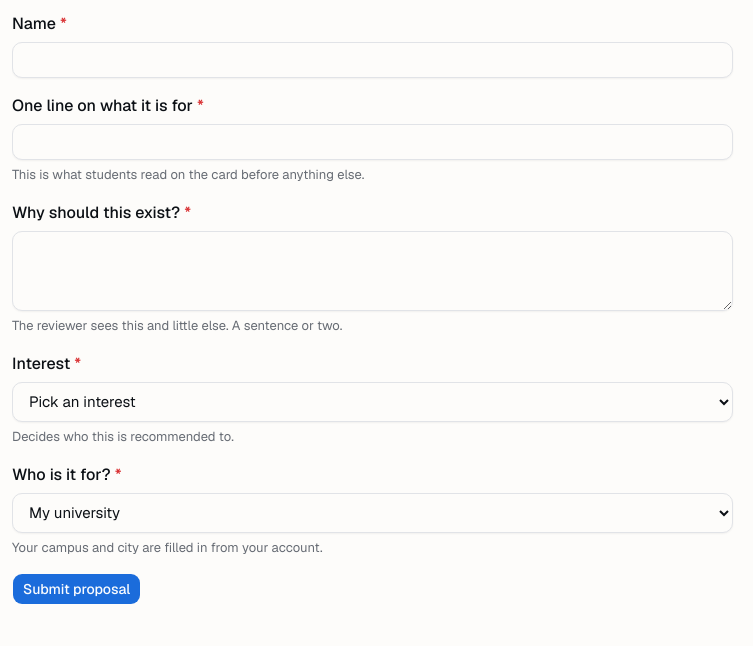
ProposeCommunityForm › does not submit an empty form
This screenshot has width=753, height=646.
Click the button "Submit proposal" at (77, 589), box [12,573,141,605]
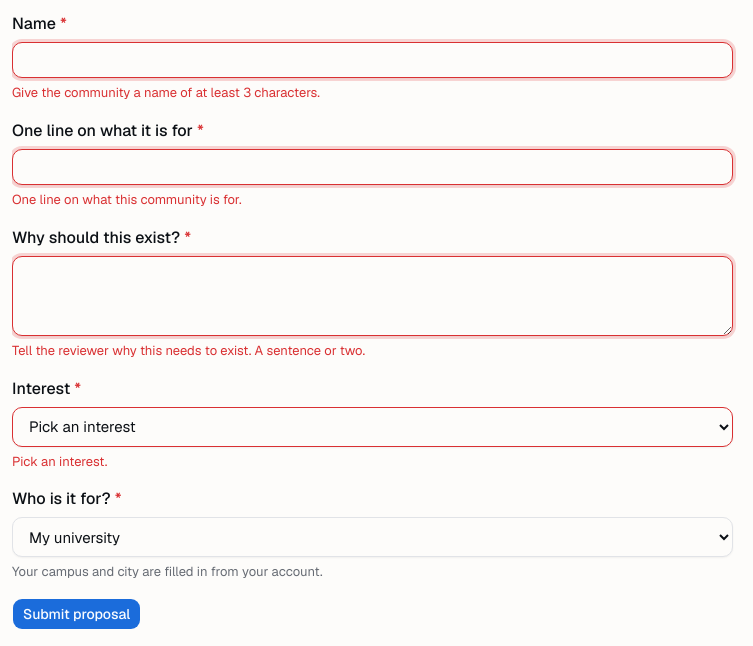
expect the text "Pick an interest." is shown: met, box [12,452,107,470]
